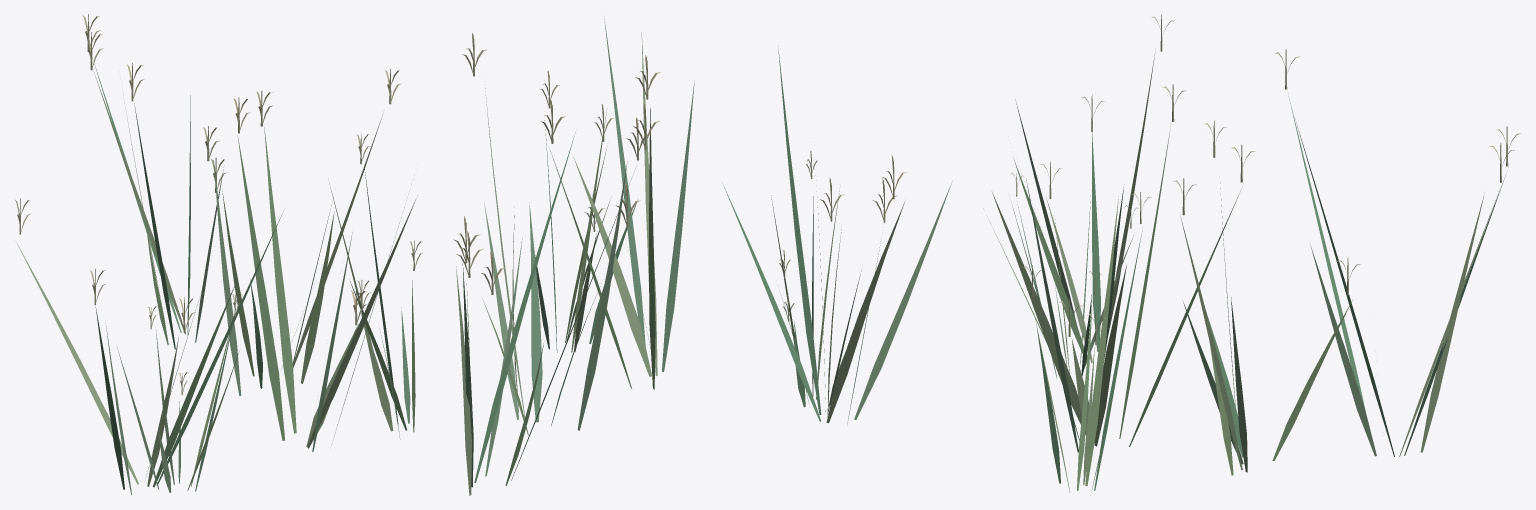
Rendered from E07_VEG05_JUNCO_VALA_B_R3Z2_REV04.glb.
3 views of the same model, side by side, from view 1: azimuth 30°, elevation 25°; view 2: azimuth 150°, elevation 25°; view 3: azimuth 270°, elevation 25° (orthographic). The views are drawn at different scales.
Visible parts, largest first — view 1: world; view 2: world; view 3: world.
Boxes of the visible parts, x1,y1,x2,y2 form: world: [15, 14, 422, 495]; world: [453, 16, 952, 495]; world: [983, 14, 1520, 495].
Bounding box in the file's own units: 1.2 × 0.962 × 1.33.
